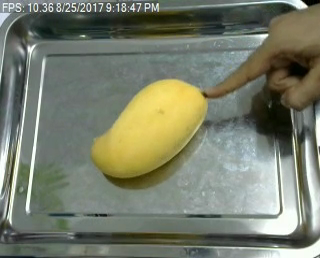Mango: (94, 78, 210, 176)
